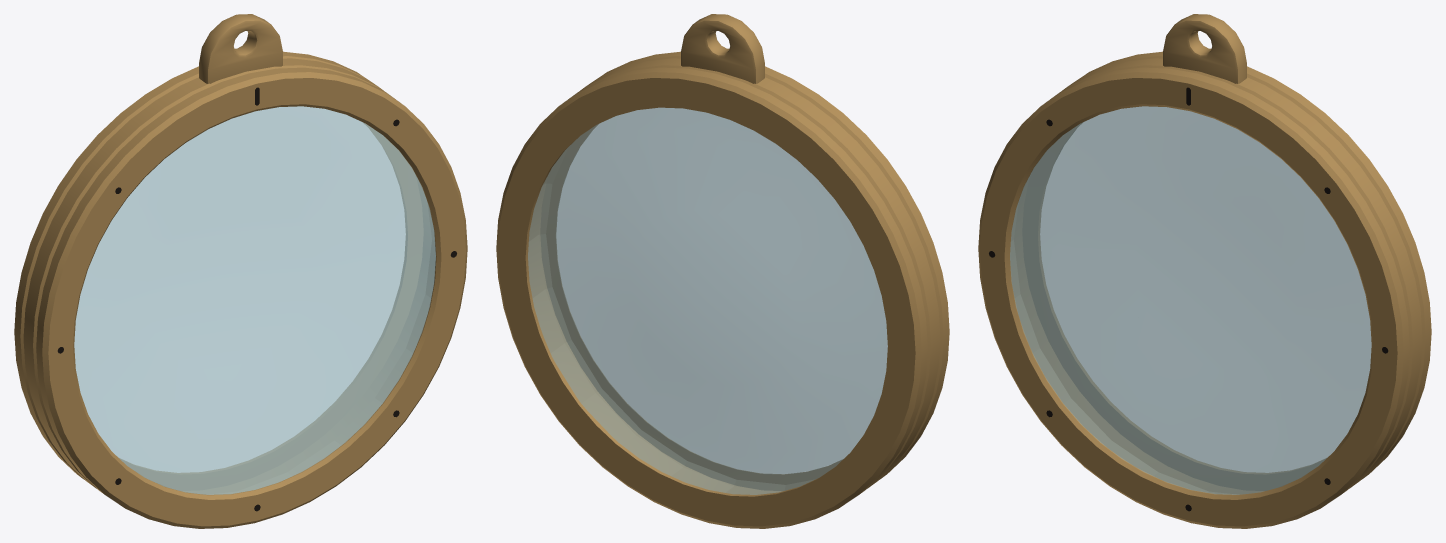
The model's file is lumen_crystal.glb.
3 views of the same model, side by side, from view 1: azimuth 30°, elevation 25°; view 2: azimuth 150°, elevation 25°; view 3: azimuth 330°, elevation 25° (orthographic).
Parts seen in each view (by area): view 1: lumen_crystal, crystal_face, crystal_bezel; view 2: lumen_crystal, crystal_bezel; view 3: lumen_crystal, crystal_face, crystal_bezel.
Part boxes in pixels (bbox=[...]): lumen_crystal: bbox=[74, 106, 435, 494]; crystal_face: bbox=[74, 106, 435, 493]; crystal_bezel: bbox=[14, 14, 467, 528]; lumen_crystal: bbox=[528, 107, 887, 494]; crystal_bezel: bbox=[496, 14, 949, 528]; lumen_crystal: bbox=[1010, 106, 1371, 494]; crystal_face: bbox=[1010, 106, 1371, 493]; crystal_bezel: bbox=[978, 14, 1431, 528].
Size of the model in its own units: 0.0545 by 0.0607 by 0.00724.
